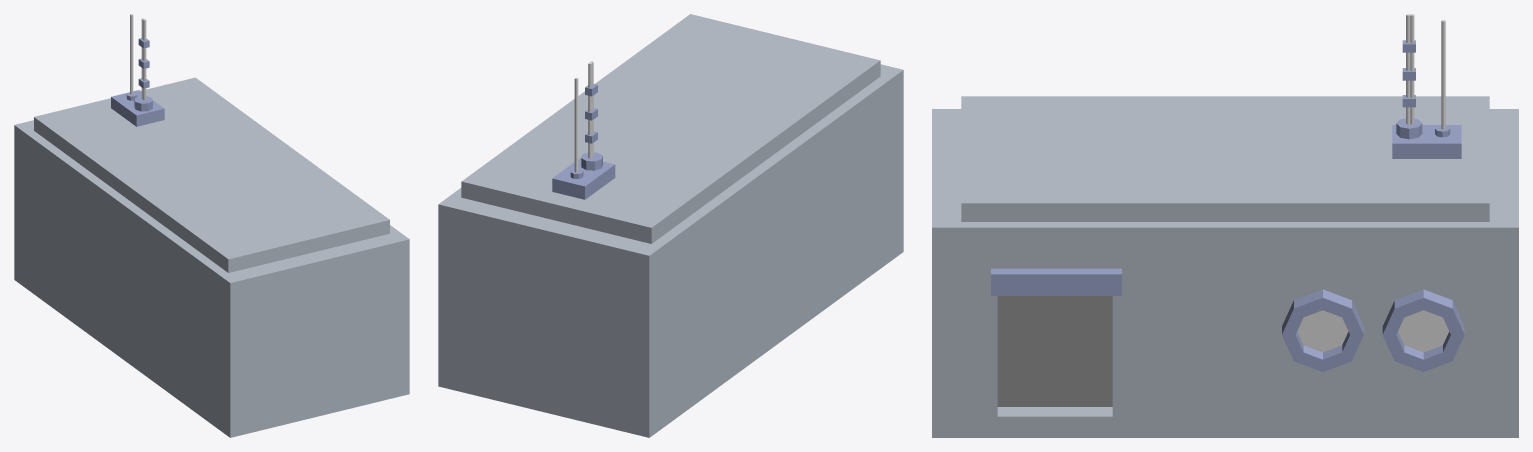
Rendered from Stockage 1.fbx.
3 renders of one model, left to right at view 1: azimuth 30°, elevation 25°; view 2: azimuth 150°, elevation 25°; view 3: azimuth 270°, elevation 25°, orthographic. The views are drawn at different scales.
Parts seen in each view (by area): view 1: Cube, Cube.002; view 2: Cube, Cube.002, Cylinder.006; view 3: Cube, Cylinder.001, Cylinder, Cube.001, Cube.002.
Boxes of the visible parts, x1=… form: Cube: x1=14, y1=77, x2=409, y2=437; Cube.002: x1=111, y1=90, x2=164, y2=126; Cube: x1=438, y1=14, x2=903, y2=437; Cube.002: x1=552, y1=157, x2=615, y2=199; Cylinder.006: x1=574, y1=77, x2=578, y2=172; Cube: x1=932, y1=96, x2=1518, y2=437; Cylinder.001: x1=1382, y1=289, x2=1464, y2=371; Cylinder: x1=1282, y1=289, x2=1363, y2=371; Cube.001: x1=991, y1=268, x2=1121, y2=295; Cube.002: x1=1392, y1=125, x2=1461, y2=158.
Bounding box in the file's own units: 214 × 285 × 417.
